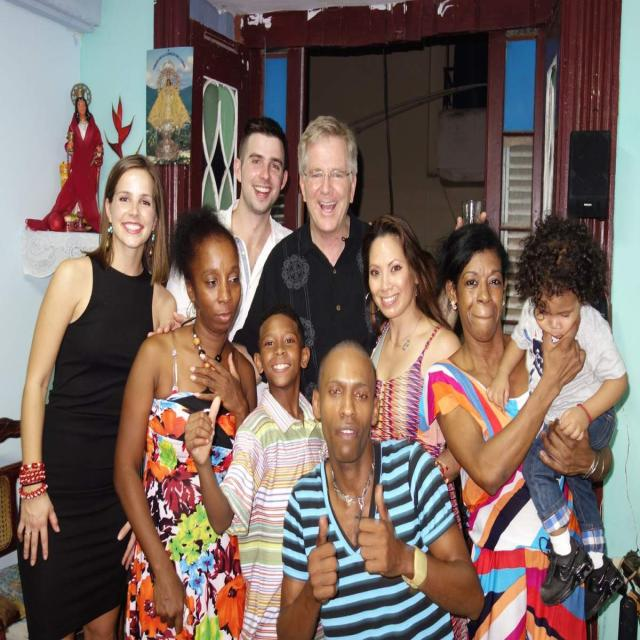body: (145, 114, 488, 407), (417, 221, 614, 638), (13, 151, 180, 640), (270, 330, 490, 640), (110, 203, 260, 640), (485, 213, 631, 625), (182, 300, 331, 640), (17, 60, 196, 247), (363, 212, 465, 538), (163, 114, 298, 350)
